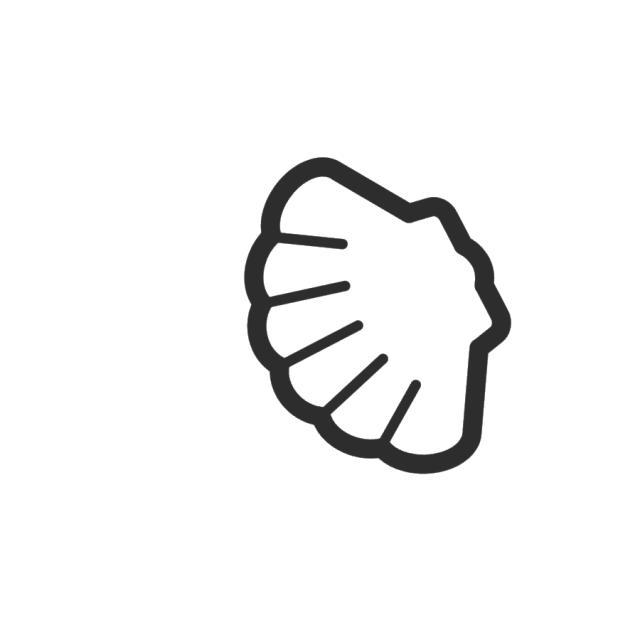shell: (237, 152, 517, 484)
